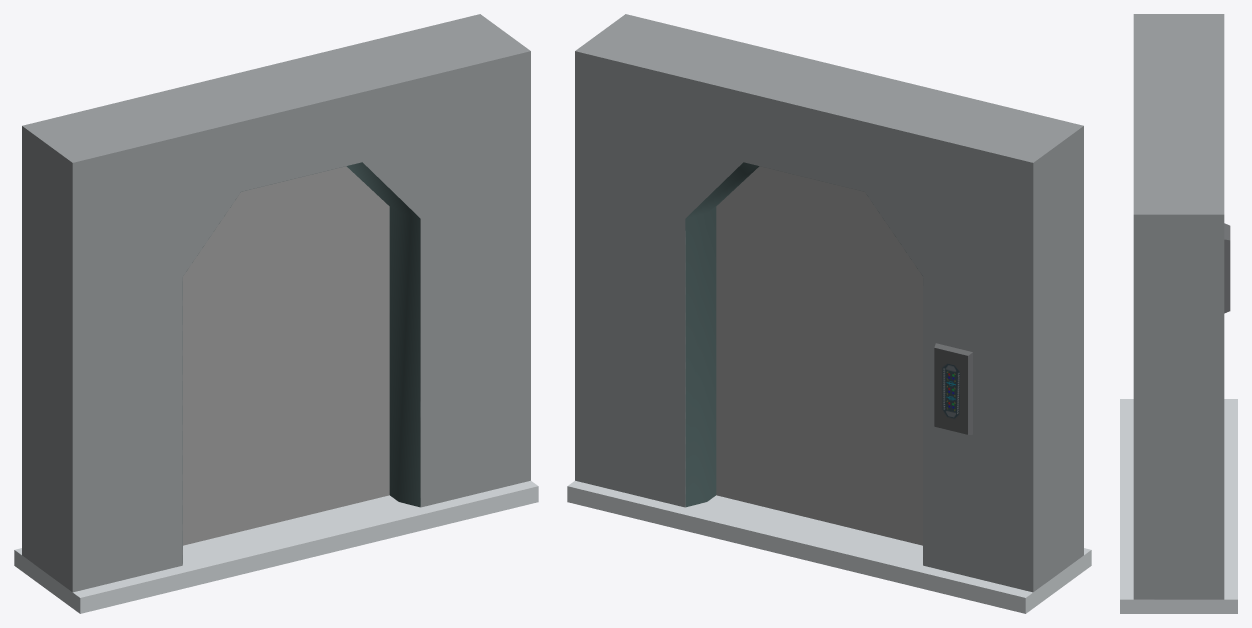
The model's file is Paraducks_DoorB_Full_FBX.fbx.
The picture shows the model from 3 angles, left to right: view 1: azimuth 30°, elevation 25°; view 2: azimuth 150°, elevation 25°; view 3: azimuth 270°, elevation 25°; orthographic projection. The views are drawn at different scales.
Visible parts, largest first — view 1: pCube1, pCube2, pCube3; view 2: pCube1, pCube2, pCube3; view 3: pCube1.
Boxes of the visible parts, x1=… form: pCube1: x1=14, y1=14, x2=538, y2=613; pCube2: x1=246, y1=166, x2=389, y2=521; pCube3: x1=183, y1=182, x2=281, y2=545; pCube1: x1=567, y1=14, x2=1091, y2=613; pCube2: x1=716, y1=166, x2=859, y2=521; pCube3: x1=824, y1=182, x2=922, y2=545; pCube1: x1=1120, y1=14, x2=1237, y2=613.
Bounding box in the file's own units: 26.29 × 24.42 × 6.53.
2 materials, 1 textured.
